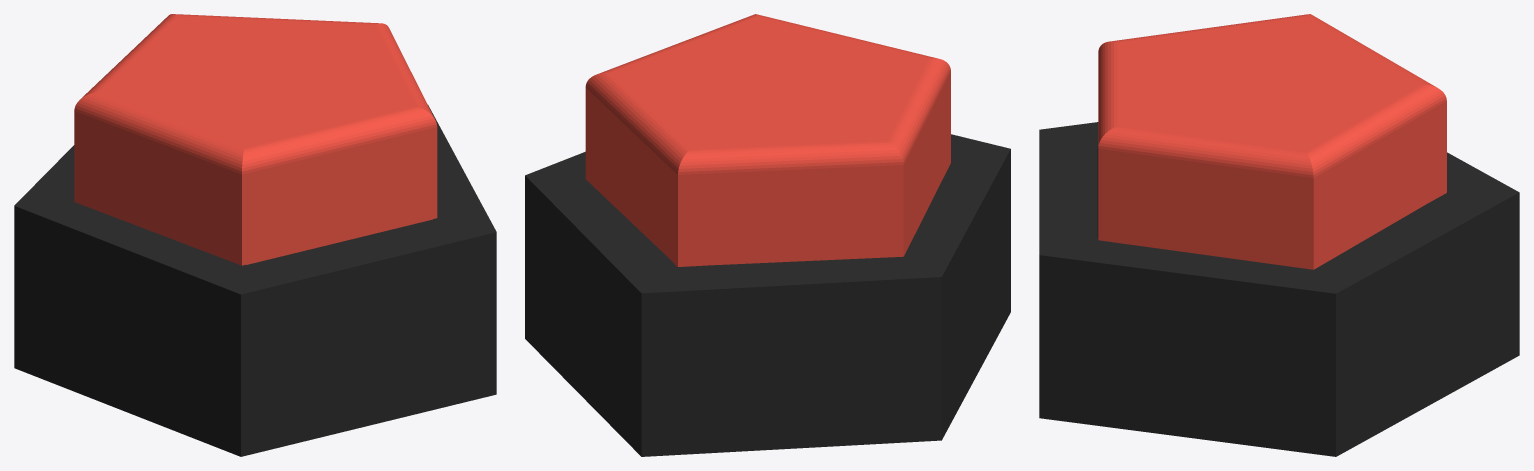
Rendered from PentagonalButton.fbx.
3 renders of one model, left to right at view 1: azimuth 30°, elevation 25°; view 2: azimuth 150°, elevation 25°; view 3: azimuth 270°, elevation 25°, orthographic.
Parts seen in each view (by area): view 1: Pentagonal_Button_Base, Pentagonal_Button; view 2: Pentagonal_Button_Base, Pentagonal_Button; view 3: Pentagonal_Button_Base, Pentagonal_Button.
Boxes of the visible parts, x1,y1,x2,y2 form: Pentagonal_Button_Base: (14,105,496,456); Pentagonal_Button: (74,14,437,265); Pentagonal_Button_Base: (525,134,1010,456); Pentagonal_Button: (585,14,950,266); Pentagonal_Button_Base: (1039,122,1519,456); Pentagonal_Button: (1098,14,1446,269).
Size of the model in its own units: 200 by 125 by 200.
